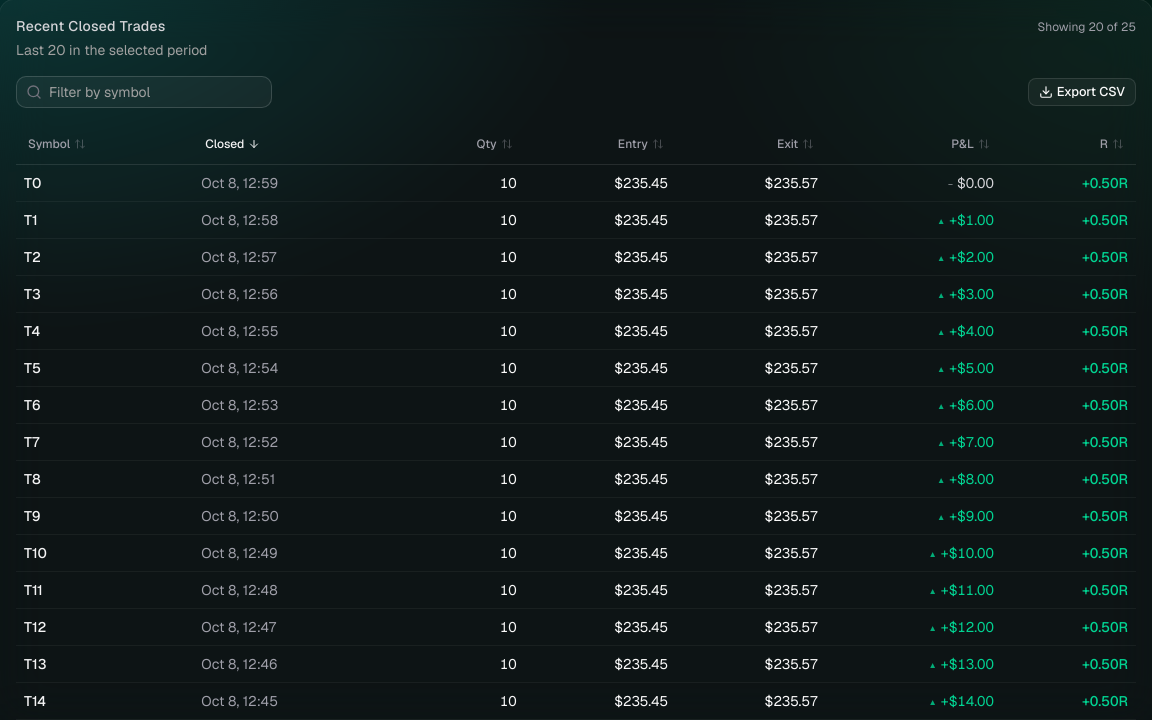
Test case: sorting › sorts before cutting the list to 20, so the best trades are not hidden
Click the button named "sort by p&l". click: (971, 144)
box: [947, 134, 994, 154]
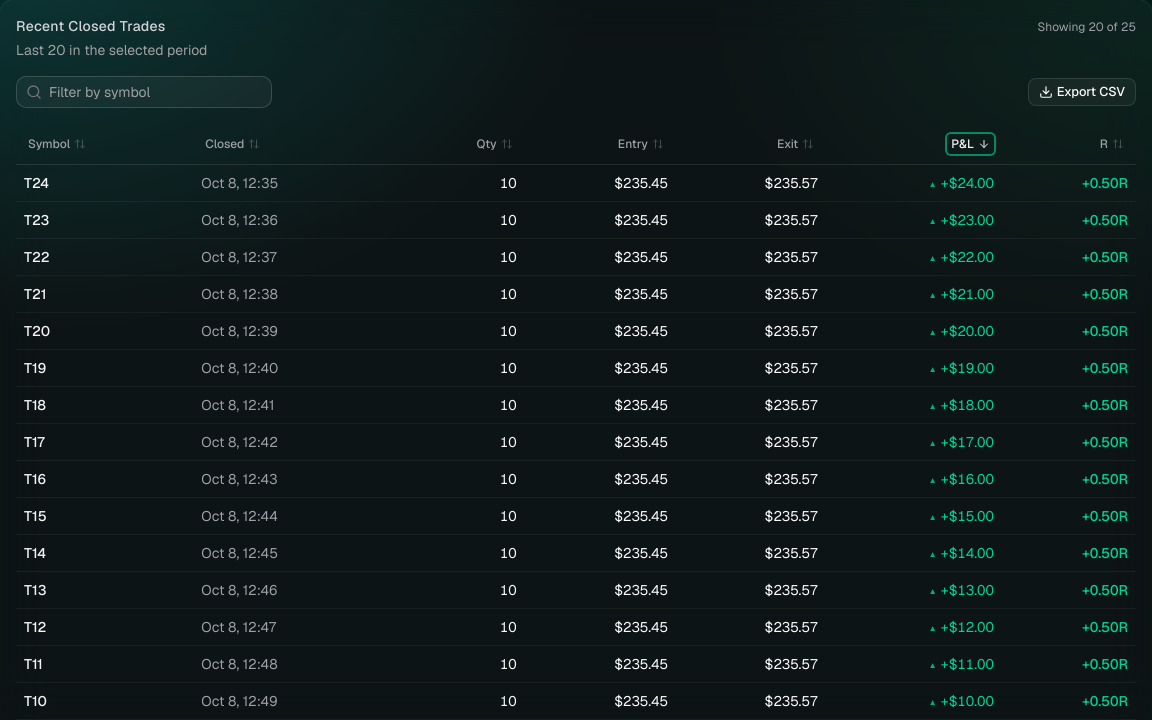
Now the text "T24" is shown, box [24, 174, 49, 192]
